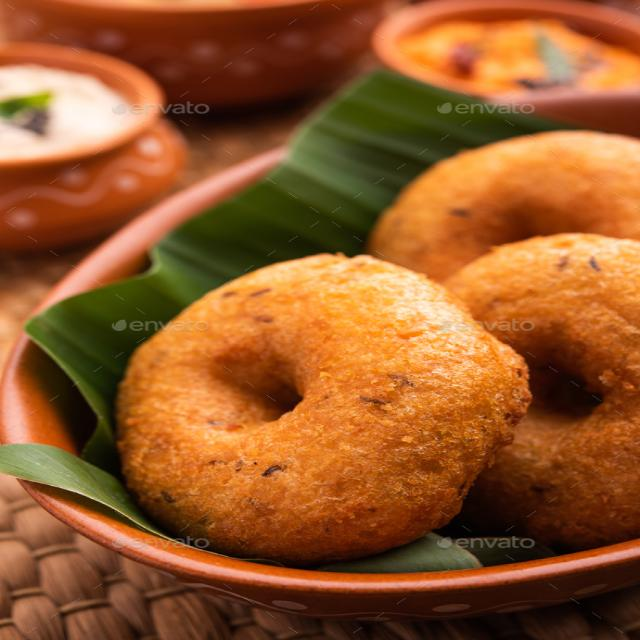MEDU VADA: (113, 129, 639, 564)
